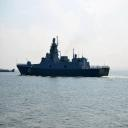Fragata: (18, 37, 112, 78)
